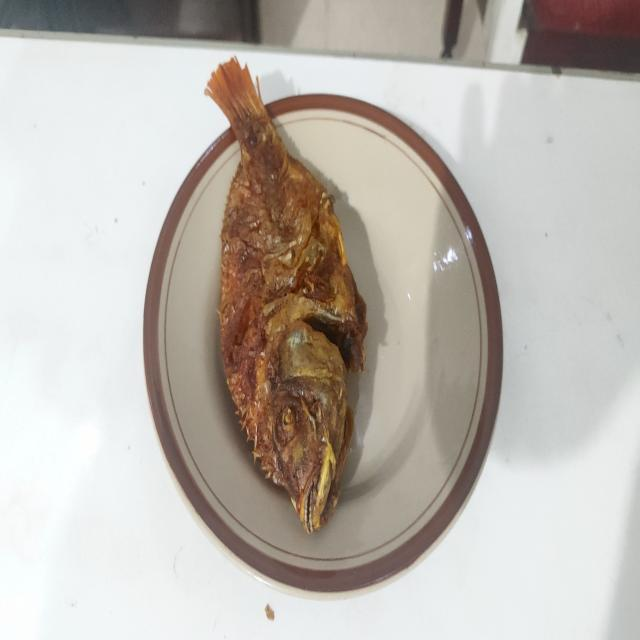ikan_mujair: (205, 59, 368, 532)
